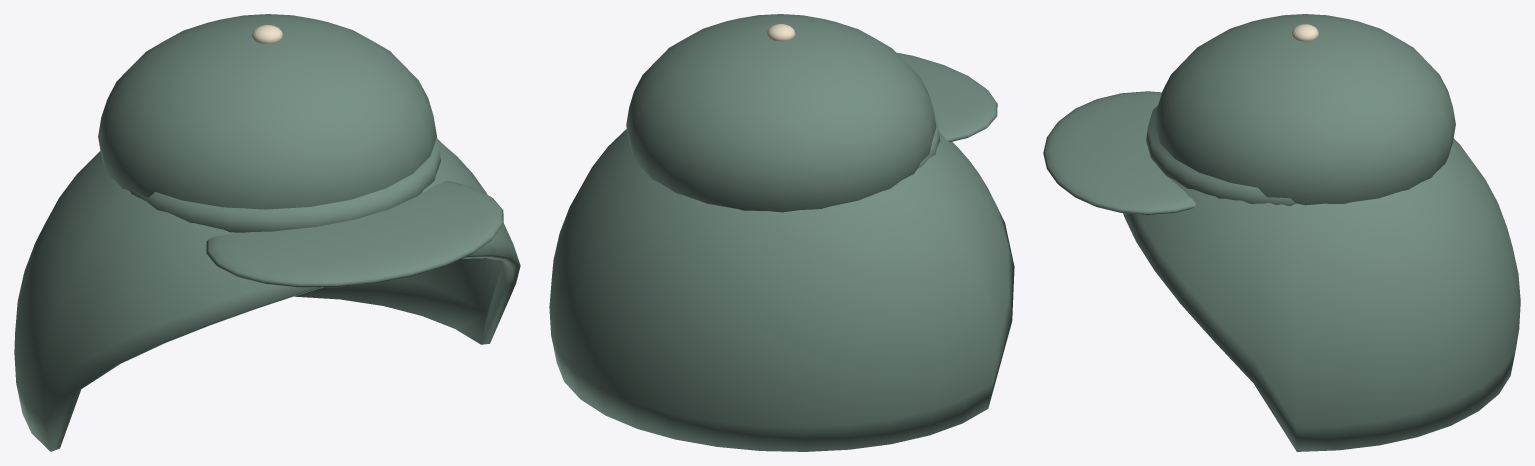
Rendered from cap.glb.
3 views of the same model, side by side, from view 1: azimuth 30°, elevation 25°; view 2: azimuth 150°, elevation 25°; view 3: azimuth 270°, elevation 25° (orthographic). The views are drawn at different scales.
Visible parts, largest first — view 1: capCrown, sculptedHair, capBrim, capBand; view 2: sculptedHair, capCrown, capBrim; view 3: sculptedHair, capCrown, capBrim, capBand.
Part boxes in pixels (x1,y1,x2,y2): capCrown: [98, 14, 436, 209]; sculptedHair: [14, 139, 520, 451]; capBrim: [206, 181, 503, 287]; capBand: [130, 136, 440, 232]; sculptedHair: [549, 129, 1014, 451]; capCrown: [626, 14, 936, 212]; capBrim: [897, 52, 997, 142]; sculptedHair: [1123, 138, 1520, 451]; capCrown: [1154, 14, 1455, 205]; capBrim: [1043, 91, 1195, 214]; capBand: [1146, 105, 1295, 206].
Size of the model in its own units: 0.7805 by 0.6046 by 0.7907.
